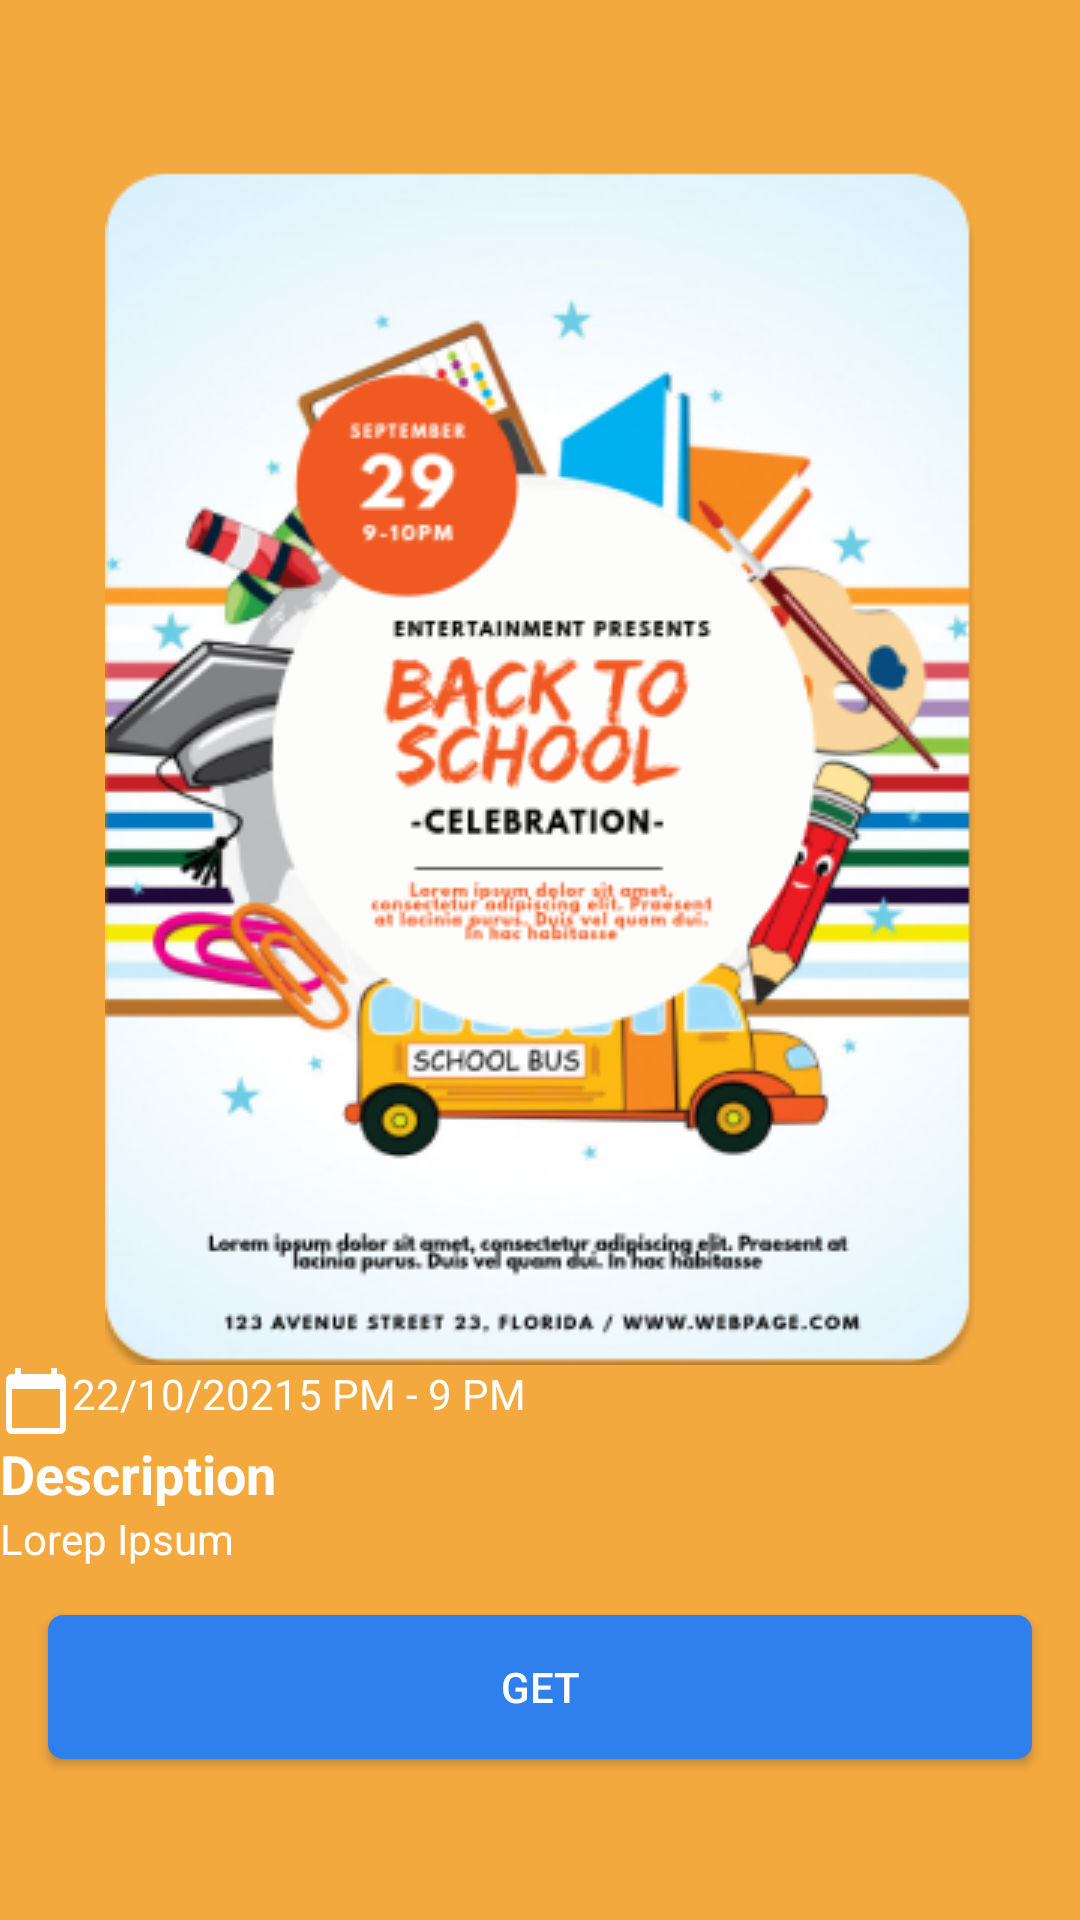

Named icons in this screenshot (1080×1920) and their bounding boxes, (x1, y1, x2, y2):
calendar: (6, 1368, 66, 1434)
